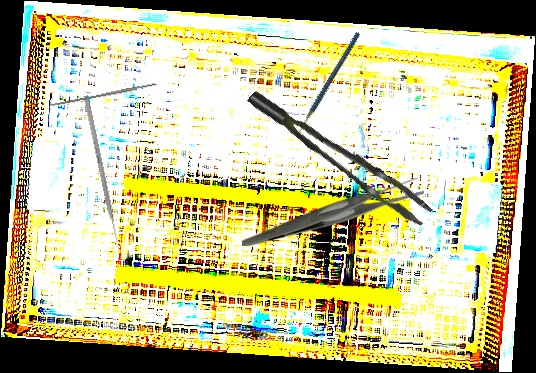Chopper: (268, 31, 390, 144)
Dressing Forceps: (242, 178, 424, 246)
Pusher: (83, 95, 122, 254)
Scalpel Handle: (48, 82, 159, 108)
Tissue Forceps: (246, 68, 435, 243)
